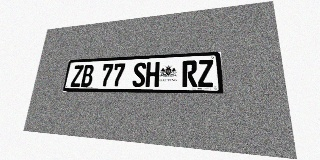7: (111, 63, 125, 87), (100, 64, 114, 87)
B: (80, 65, 94, 87)
H: (145, 62, 160, 87)
R: (182, 60, 197, 87)
S: (132, 62, 146, 87)
Z: (197, 59, 214, 87), (70, 65, 84, 87)
